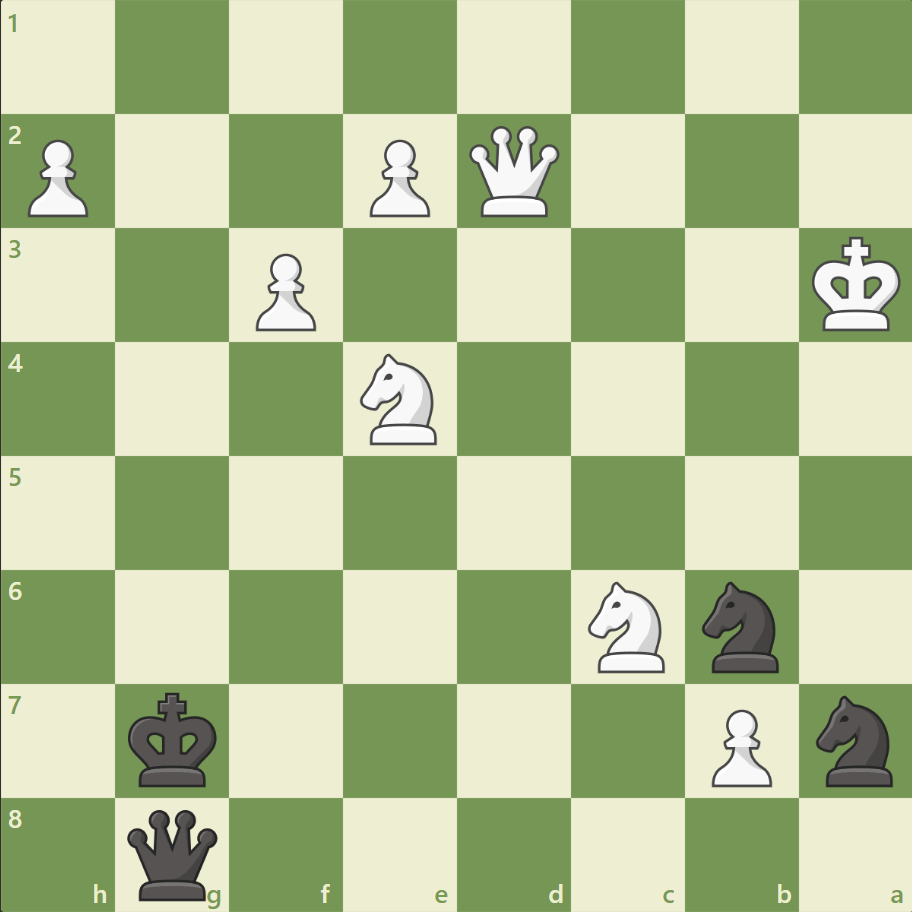K: (806, 231, 906, 339)
N: (351, 348, 449, 450), (579, 575, 676, 677)
P: (701, 700, 776, 791), (247, 246, 322, 337), (20, 132, 95, 223), (361, 132, 435, 223)
Q: (464, 122, 563, 222)
k: (124, 685, 224, 793)
n: (806, 688, 903, 791), (692, 575, 789, 677)
q: (124, 804, 223, 903)
